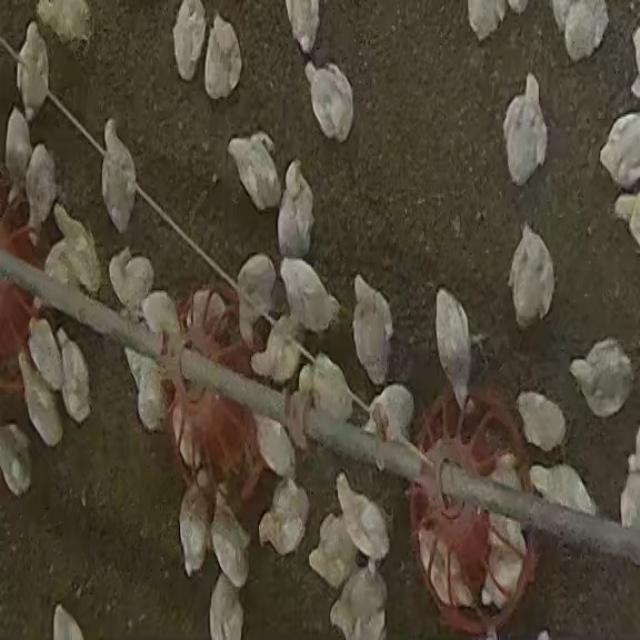chicken: (433, 286, 472, 430), (333, 470, 394, 562), (277, 255, 341, 337), (350, 274, 395, 388), (570, 337, 632, 418), (508, 223, 554, 332), (417, 524, 473, 610), (503, 78, 546, 187), (18, 348, 64, 449), (329, 562, 388, 640), (258, 476, 311, 558), (101, 117, 138, 234), (235, 255, 281, 348), (247, 316, 306, 386), (208, 492, 250, 589), (304, 61, 354, 141), (58, 204, 102, 290), (309, 512, 359, 587), (107, 246, 155, 322), (229, 132, 279, 204), (125, 347, 167, 432), (556, 0, 611, 64), (515, 388, 567, 454), (532, 460, 595, 514), (200, 15, 239, 102), (306, 352, 354, 422), (24, 142, 58, 240), (178, 478, 212, 576), (57, 327, 92, 422), (598, 112, 640, 191), (279, 158, 313, 255), (26, 314, 66, 394), (17, 21, 49, 120), (171, 0, 205, 82), (5, 108, 34, 203), (29, 247, 69, 313), (479, 550, 522, 611), (254, 416, 297, 477), (615, 432, 640, 530), (367, 390, 414, 442), (38, 1, 94, 44), (0, 423, 32, 498), (491, 456, 522, 531), (140, 290, 181, 344), (185, 282, 226, 336), (210, 574, 243, 636), (176, 408, 204, 476), (287, 0, 317, 51), (468, 1, 506, 40), (53, 605, 86, 638)
